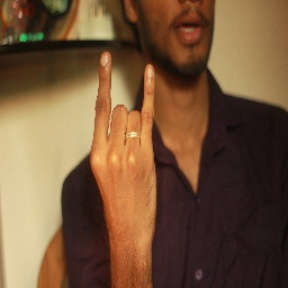V: (83, 48, 163, 225)
